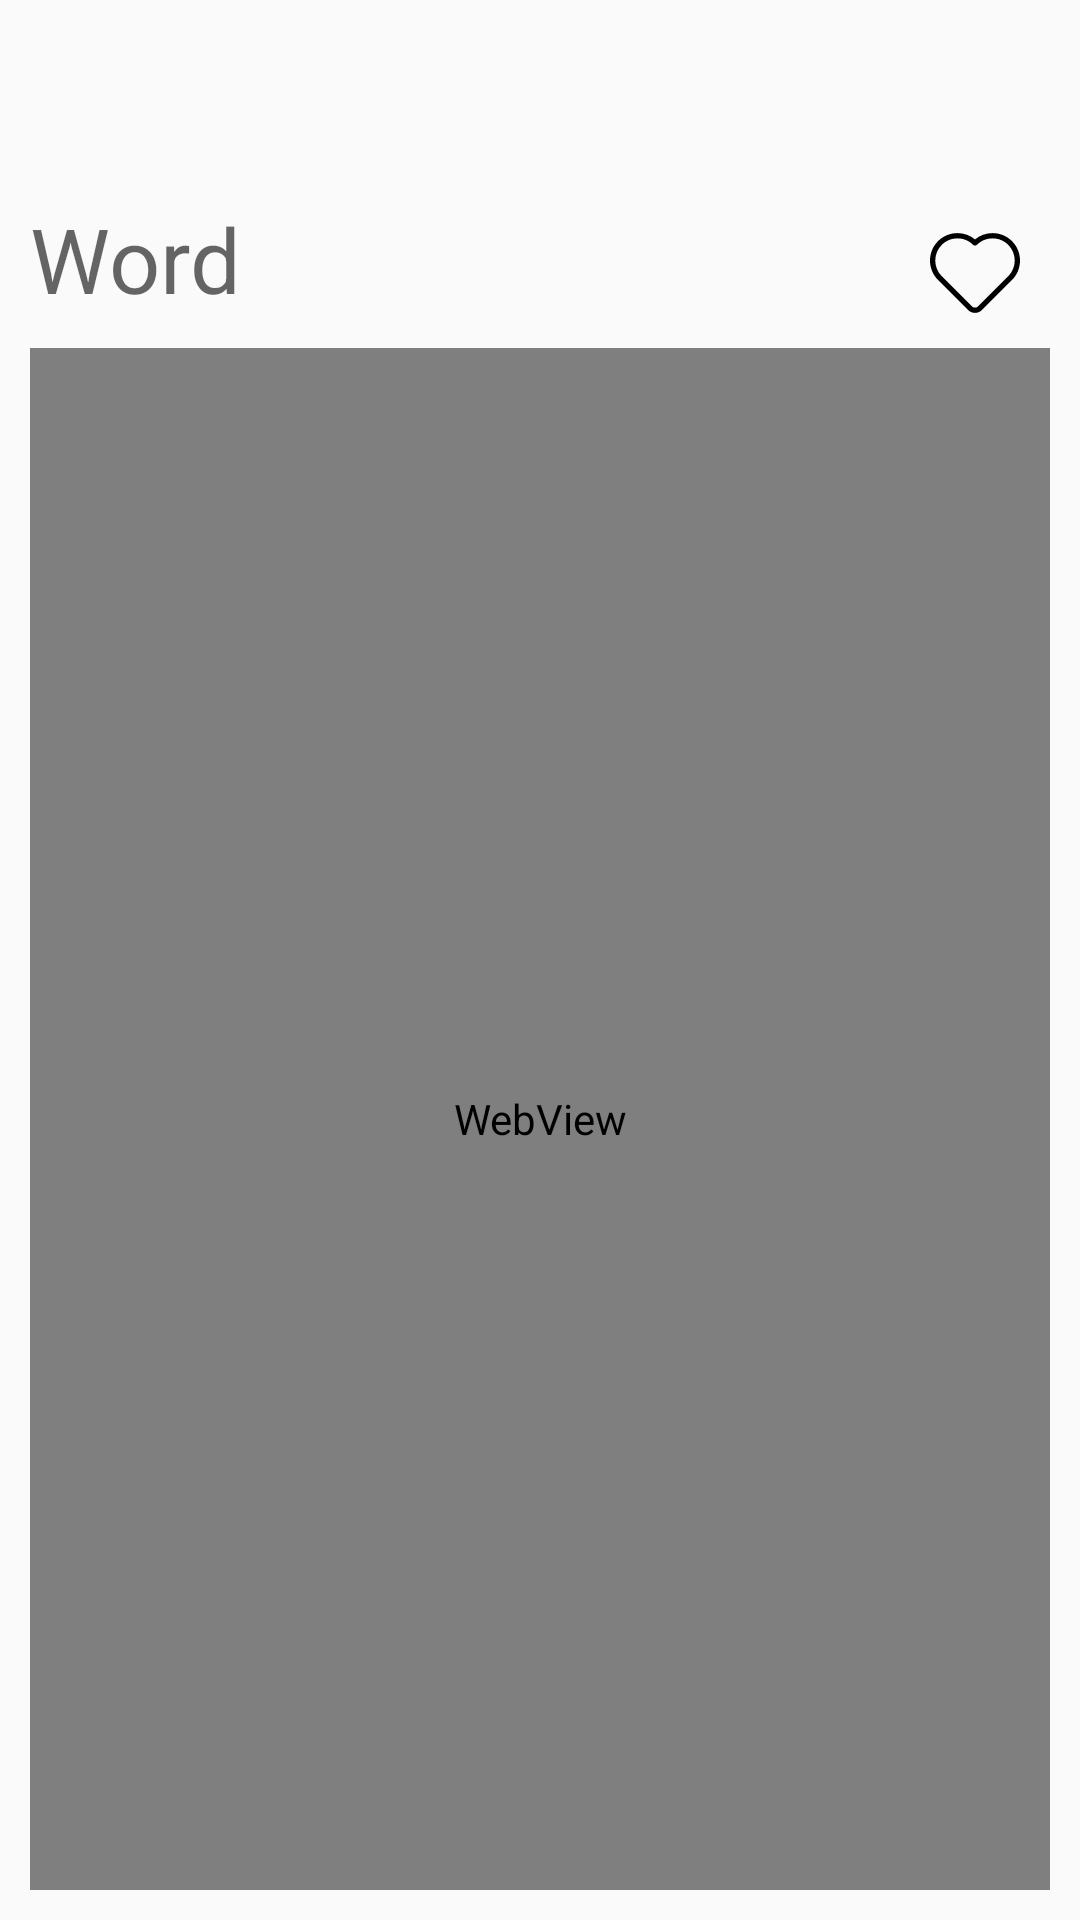

Locate icon controls on the screen. Image size 1080x1920, boxes as (x1, y1, x2, y2).
favourite: (930, 233, 1020, 313)
